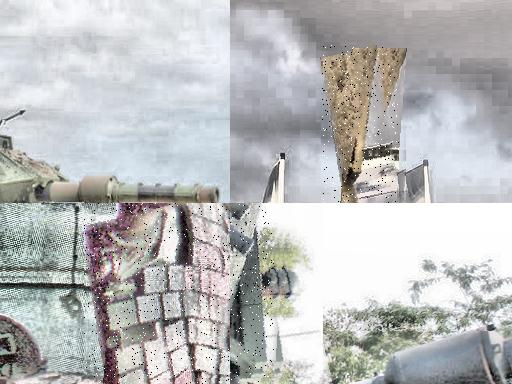tanks: (85, 204, 231, 384), (1, 132, 220, 204), (323, 46, 377, 204), (231, 204, 262, 384), (3, 121, 6, 123)
